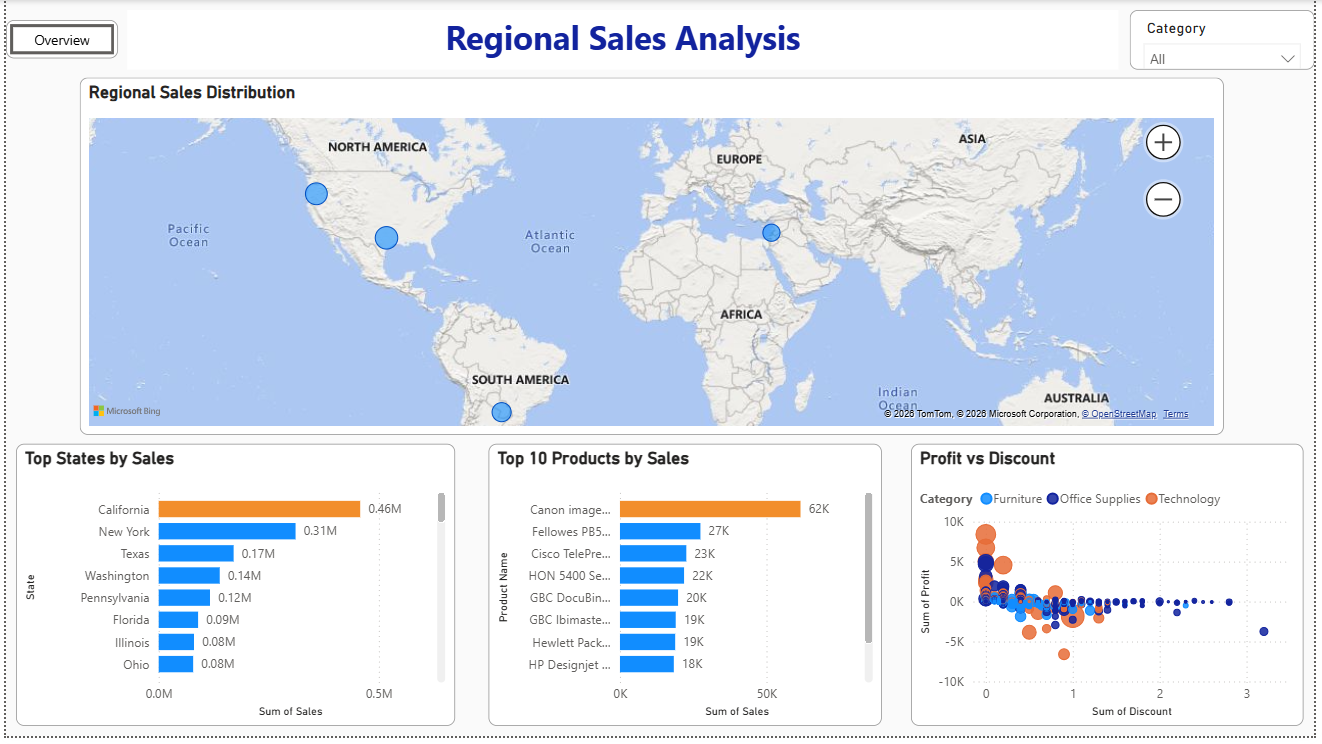

Layout of this report page (visuals, bound fields, positions):
{"tool":"powerbi","page":{"name":"Regional Analysis","canvas":[1280,720],"ordinal":1},"visuals":[{"type":"map","title":"Regional Sales Distribution","fields":{"Category":["Orders.Region"],"Size":["Sum(Orders.Sales)"]},"box":[128,98.8,1061.6,261.6],"z":0},{"type":"clusteredBarChart","title":"Top States by Sales","fields":{"Category":["Orders.State"],"Y":["Sum(Orders.Sales)"]},"box":[9.8,385.2,429.2,325.3],"z":1000},{"type":"clusteredBarChart","title":"Top 10 Products by Sales","fields":{"Category":["Orders.Product Name"],"Y":["Sum(Orders.Sales)"]},"box":[481.8,385.2,371.7,325.3],"z":2000},{"type":"scatterChart","title":"Profit vs Discount","fields":{"X":["Sum(Orders.Discount)"],"Y":["Sum(Orders.Profit)"],"Size":["Sum(Orders.Sales)"],"Series":["Orders.Category"],"Category":["Orders.Order ID"]},"box":[896,385.2,384,325.3],"z":3000},{"type":"textbox","box":[153,16.7,935,69.6],"z":4000},{"type":"slicer","fields":{"Values":["Orders.Category"]},"box":[1099.1,16.7,180.9,58.4],"z":5000},{"type":"actionButton","box":[0,37.6,109.9,37.6],"z":6000}]}

Visuals, with their boxes in screenshot pixels (x1, y1, x2, y2), scaled from the page's 1280x720 canvas onto the 1322x744 screenshot:
"Regional Sales Distribution" map: 132,102,1229,372
"Top States by Sales" clusteredBarChart: 10,398,453,734
"Top 10 Products by Sales" clusteredBarChart: 498,398,882,734
"Profit vs Discount" scatterChart: 925,398,1321,734
textbox: 158,17,1124,89
slicer - Orders.Category: 1135,17,1321,78
actionButton: 0,39,114,78
